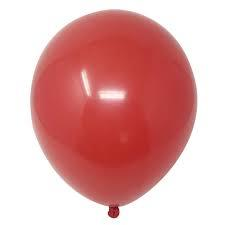red: (30, 8, 198, 206)
